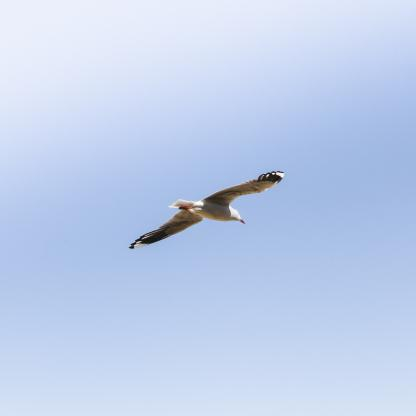bird: (129, 170, 285, 250)
